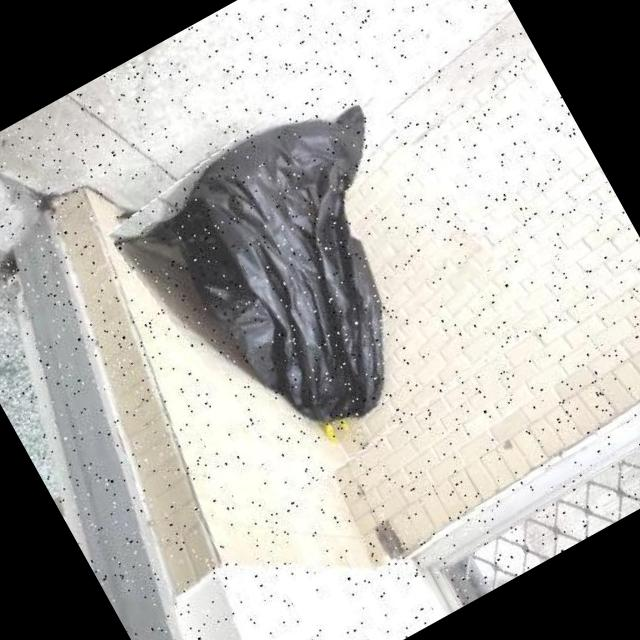KantongPlastik: (104, 82, 496, 482)
